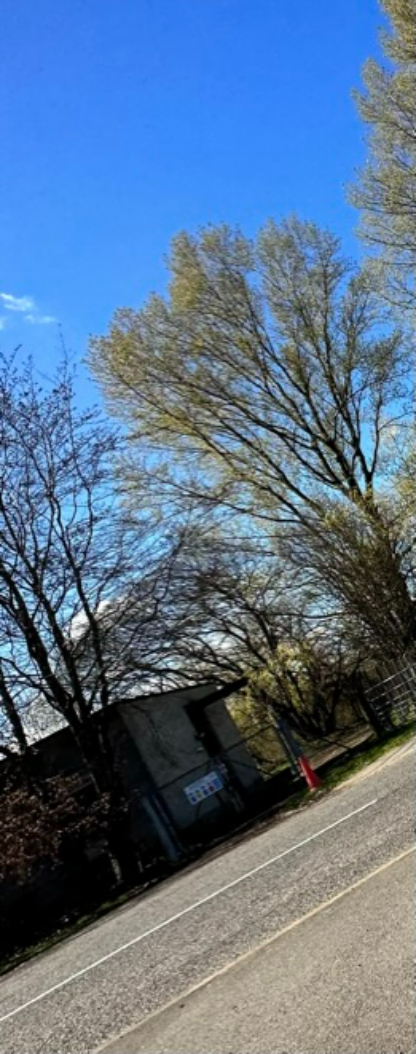tree: (97, 238, 416, 660), (0, 307, 163, 875)
